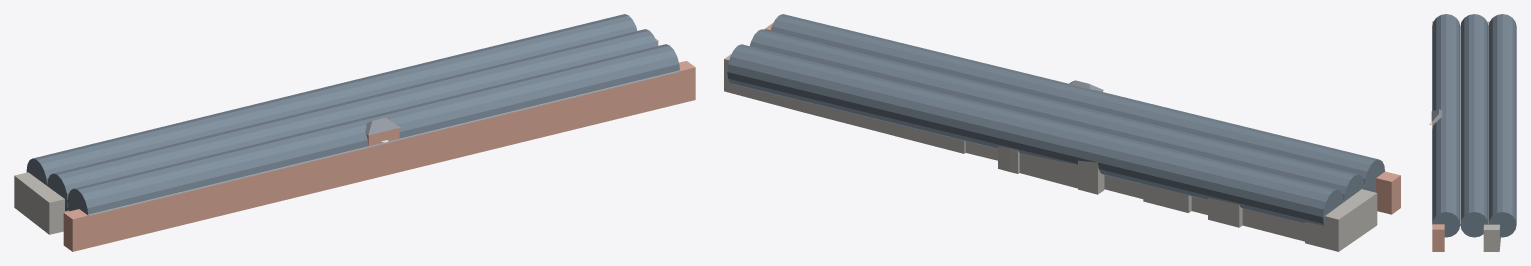
The model's file is basel-sbb.glb.
3 views of the same model, side by side, from view 1: azimuth 30°, elevation 25°; view 2: azimuth 150°, elevation 25°; view 3: azimuth 270°, elevation 25° (orthographic). The views are drawn at different scales.
Visible parts, largest first — view 1: building; view 2: building; view 3: building.
Part boxes in pixels (x1=…): building: x1=14, y1=14, x2=695, y2=251; building: x1=724, y1=14, x2=1400, y2=251; building: x1=1429, y1=14, x2=1516, y2=251.
Size of the model in its own units: 320 by 26 by 56.67.
